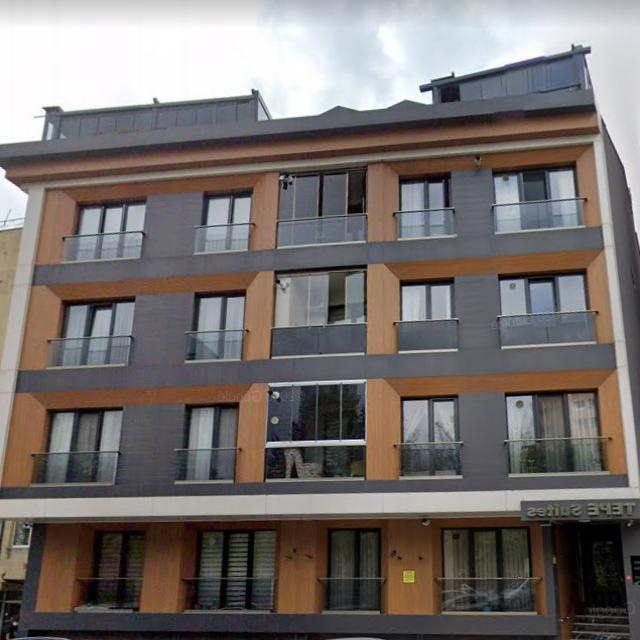Building: (0, 47, 640, 640)
